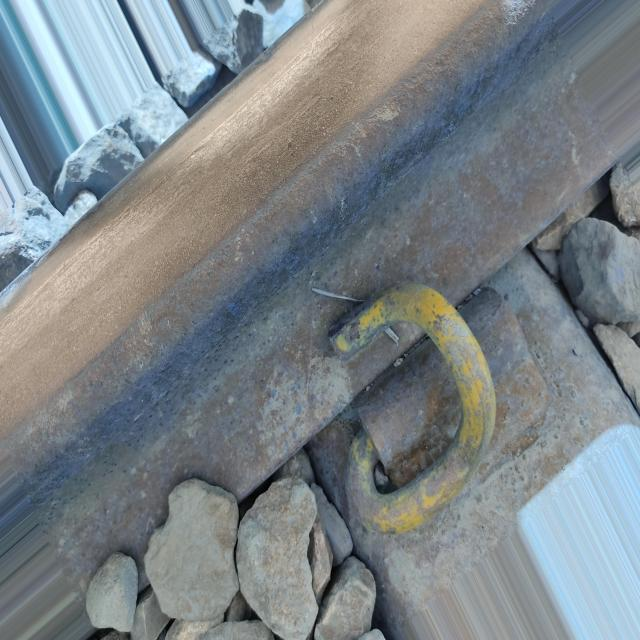Good Fasteners: (301, 265, 573, 569)
